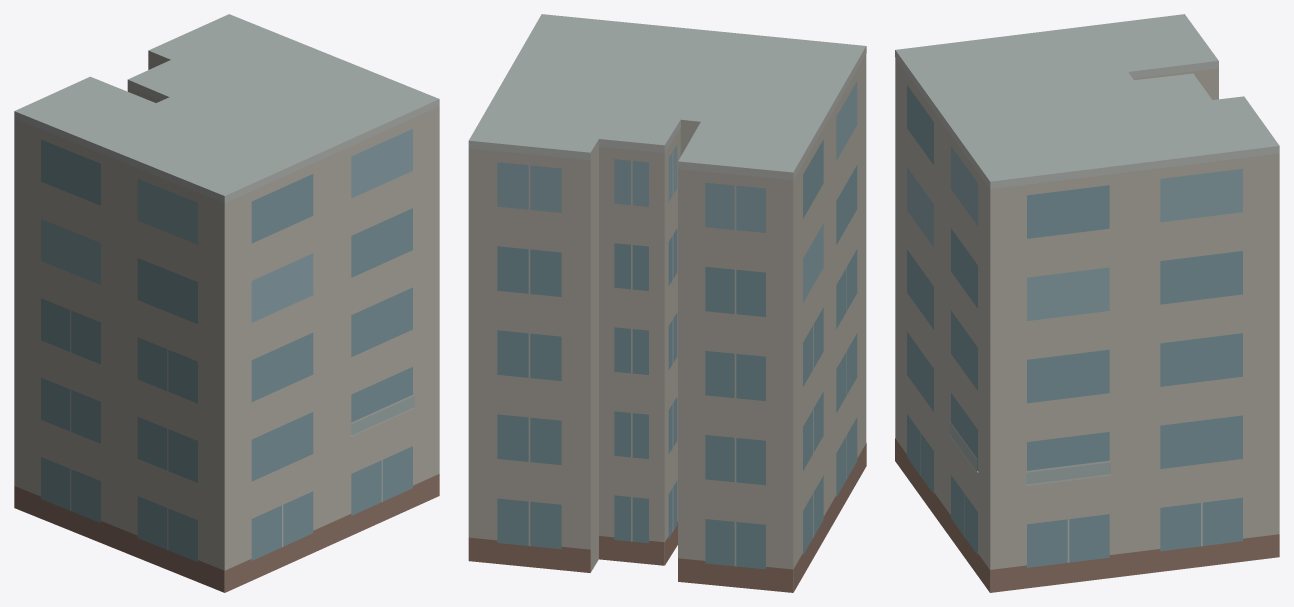
The model's file is survey-upis-32852287.glb.
3 views of the same model, side by side, from view 1: azimuth 30°, elevation 25°; view 2: azimuth 150°, elevation 25°; view 3: azimuth 270°, elevation 25° (orthographic). The views are drawn at different scales.
Visible parts, largest first — view 1: survey-upis-32852287.tmp; view 2: survey-upis-32852287.tmp; view 3: survey-upis-32852287.tmp.
Part boxes in pixels (x1=…): survey-upis-32852287.tmp: x1=14, y1=14, x2=439, y2=592; survey-upis-32852287.tmp: x1=468, y1=14, x2=866, y2=592; survey-upis-32852287.tmp: x1=895, y1=14, x2=1279, y2=592.
Bounding box in the file's own units: 11.72 × 13.4 × 11.36.
